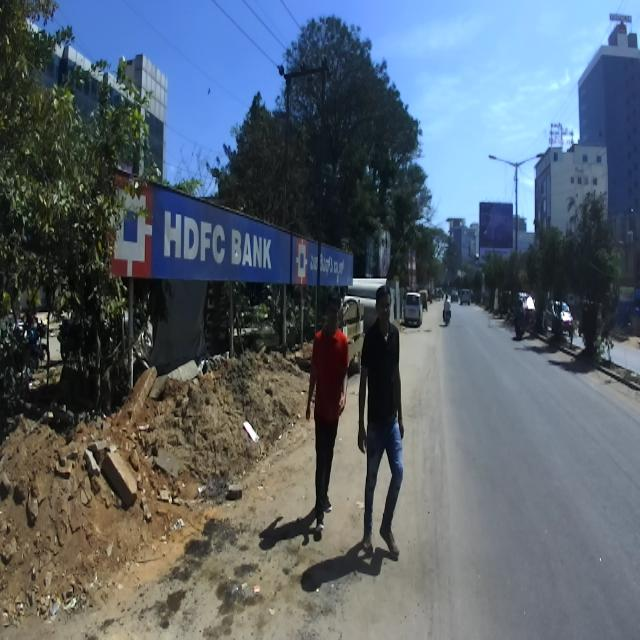person ahead at: (358, 283, 406, 569), (306, 285, 349, 548)
